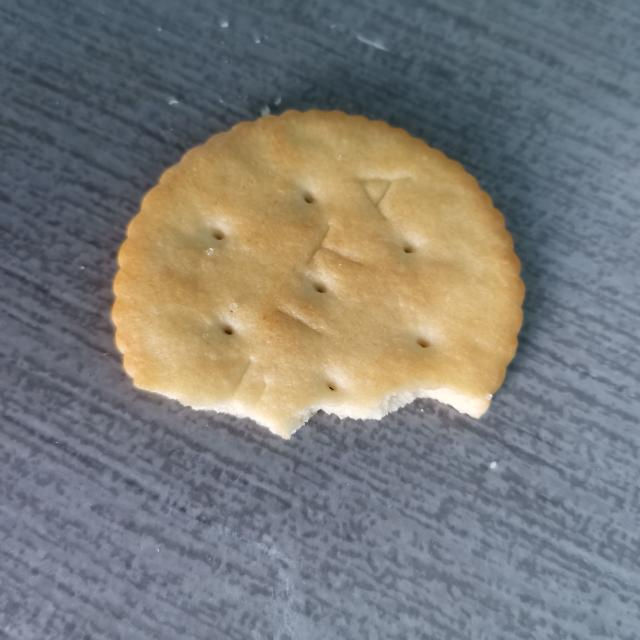Broken: (109, 106, 526, 440)
